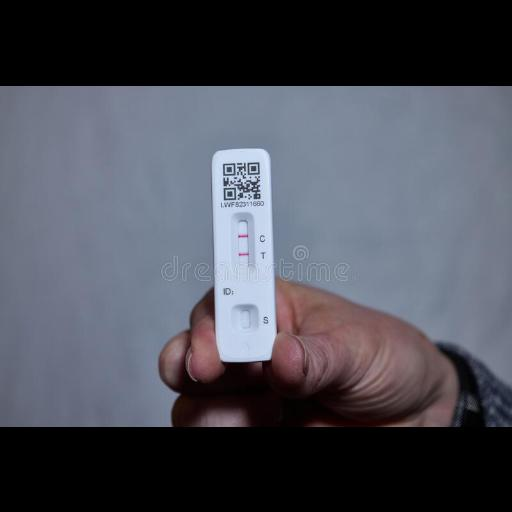Pos: (212, 148, 276, 358)
